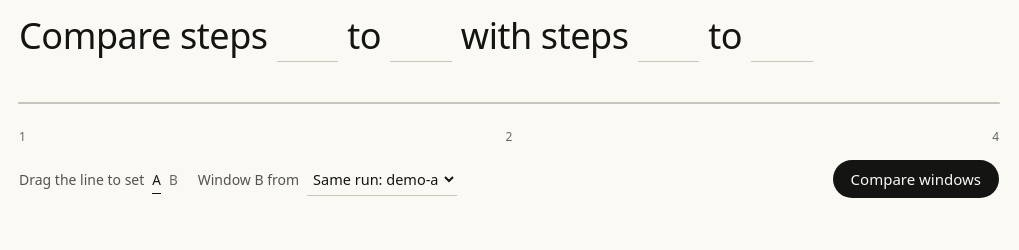
Test: submitting windows › shows a failed comparison's error
Type "1" into the field named "A start".
click(308, 37); type("1")  # box [277,12,338,62]
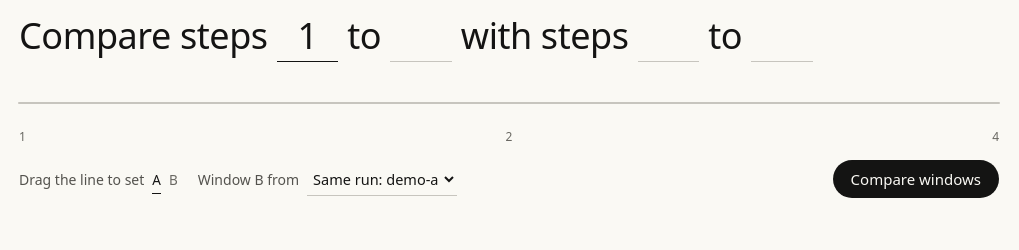
Type "2" into the field named "A end".
click(421, 37); type("2")  # box [390,12,452,62]
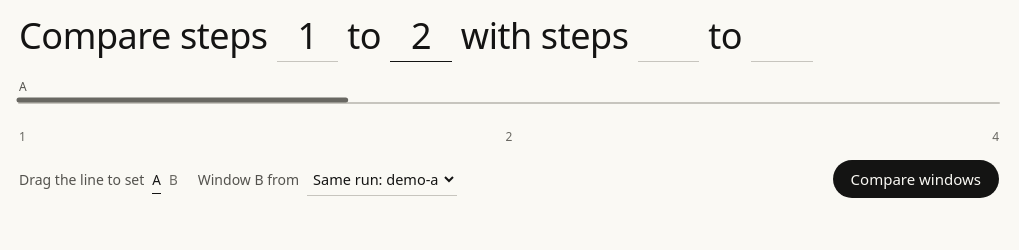
Type "3" into the field named "B start".
click(668, 37); type("3")  # box [638,12,699,62]
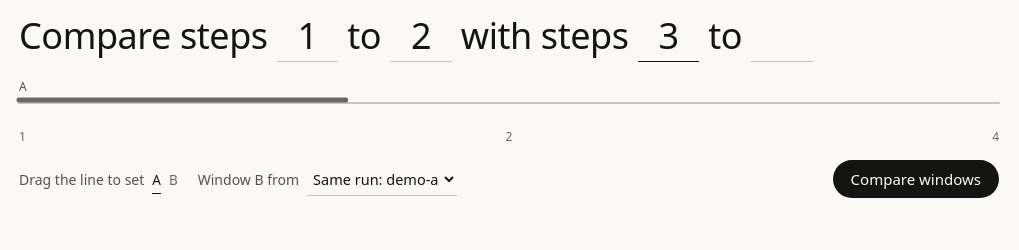
Type "5" into the field named "B end".
click(782, 37); type("5")  # box [751,12,813,62]
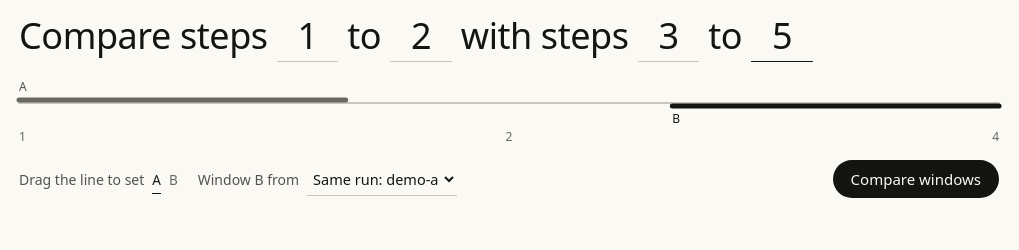
Click the button "Compare windows".
click(916, 179)  # box [833,160,999,198]
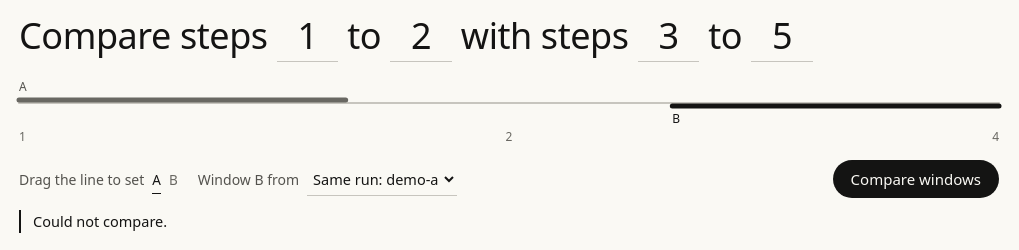
Result: the message reads "Could not compare." at [33,211,167,231]
